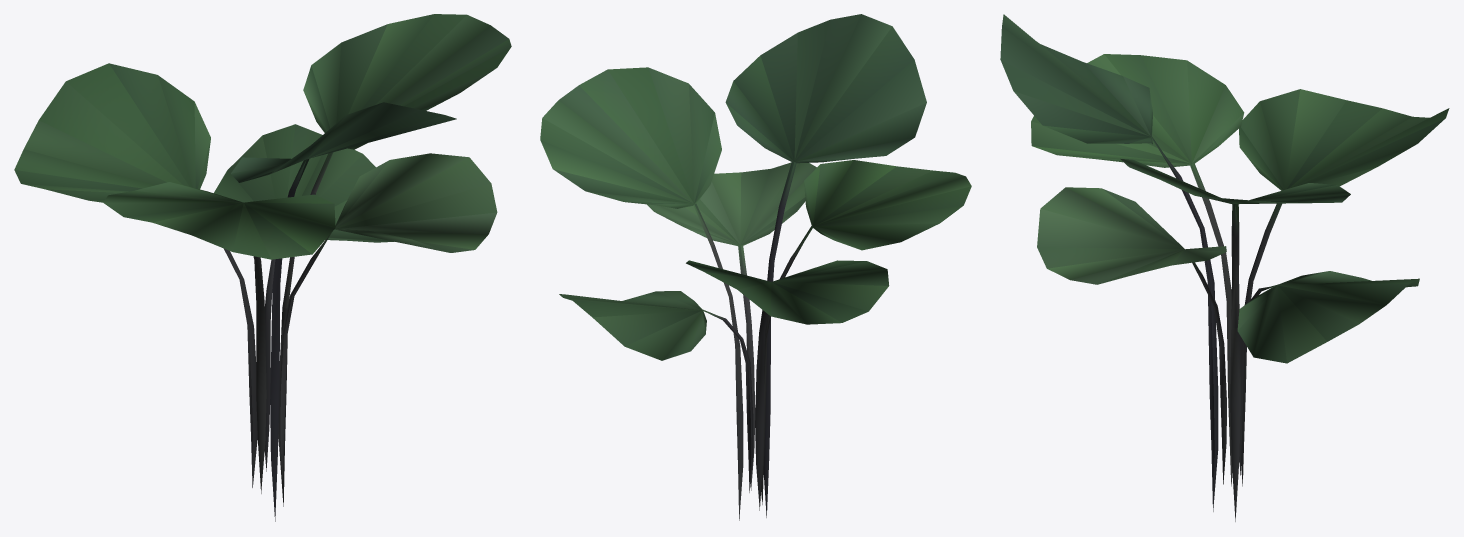
3 renders of one model, left to right at view 1: azimuth 30°, elevation 25°; view 2: azimuth 150°, elevation 25°; view 3: azimuth 270°, elevation 25°, orthographic. The views are drawn at different scales.
Parts seen in each view (by area): view 1: alt3.217; view 2: alt3.217; view 3: alt3.217.
Part boxes in pixels (bbox=[...]): alt3.217: bbox=[14, 14, 511, 521]; alt3.217: bbox=[540, 14, 971, 520]; alt3.217: bbox=[1000, 14, 1449, 521].
Size of the model in its own units: 0.4351 by 0.5 by 0.4182.
